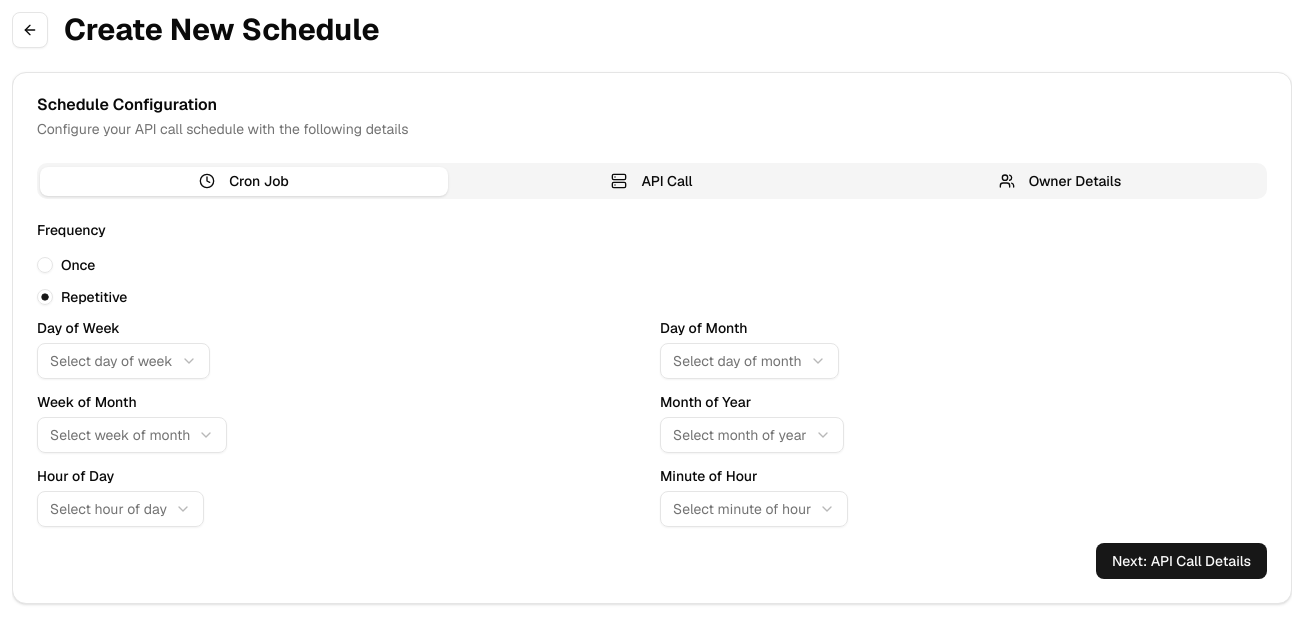
Scenario: NewSchedulePage › shows additional fields when repetitive frequency is selected
Check: the radio button named "Repetitive" next to "Repetitive" is checked, box [37,289,53,305]
Check: the text "Day of Week" is shown, box [37,319,120,337]
Step 1. Click the radio button named "Once" next to "Once" → (45, 265), box [37,257,53,273]
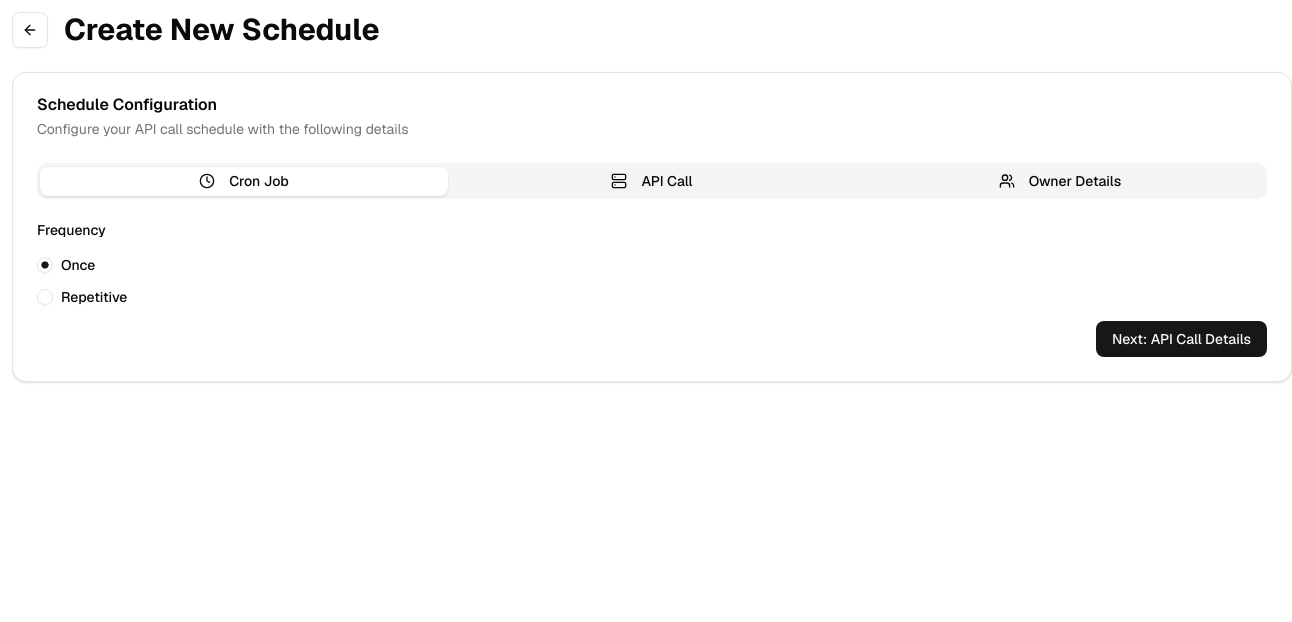
Check: the text "Day of Week" is gone
Check: the text "Day of Month" is gone
Check: the text "Week of Month" is gone
